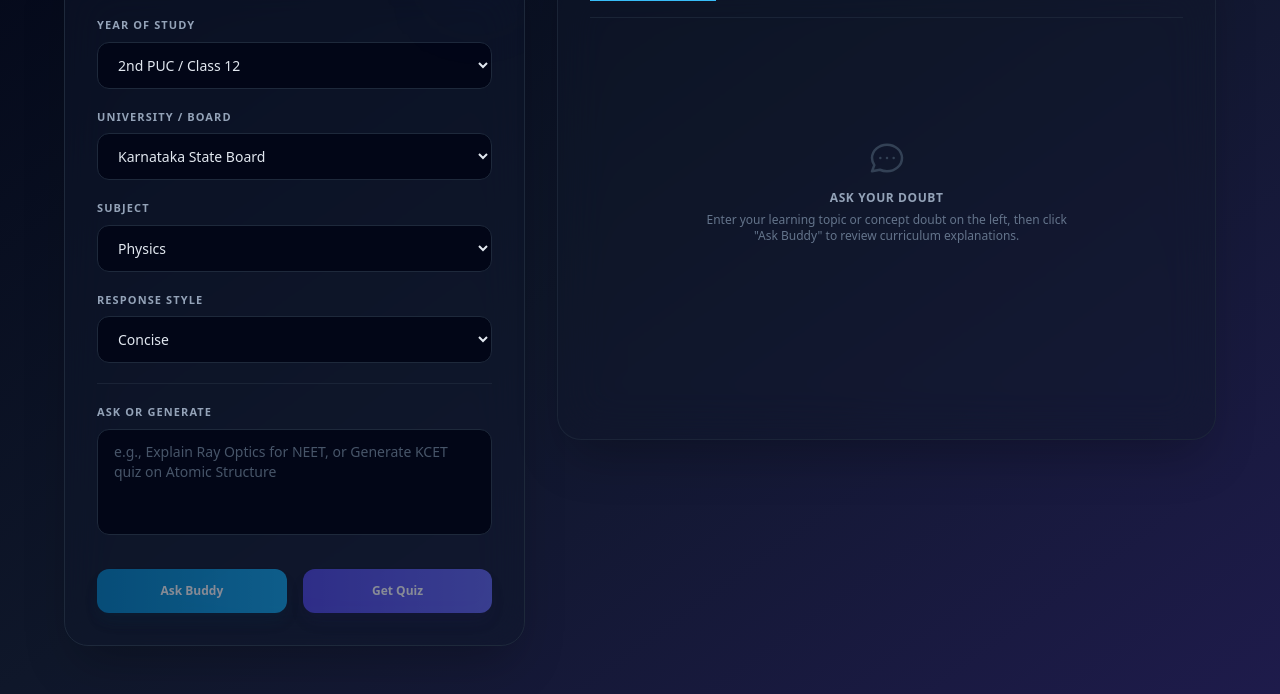
Scenario: StudyMateDashboard Frontend UI Tests › 8. Response panel displays answer
(page scrolled)
Replace the text in the text box with placeholder "e.g.," with "What is covalent bond?": (295, 482) 97,428 -> 492,534
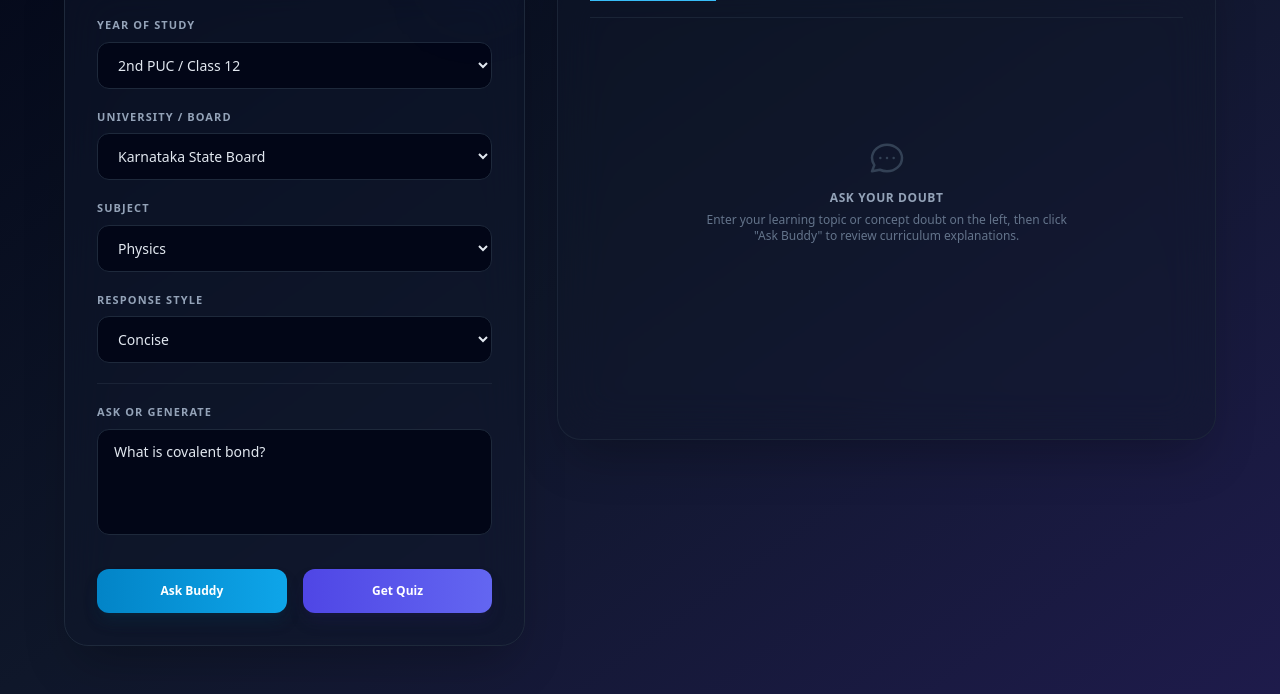
Click the button "Ask Buddy": (192, 590) 97,568 -> 287,612
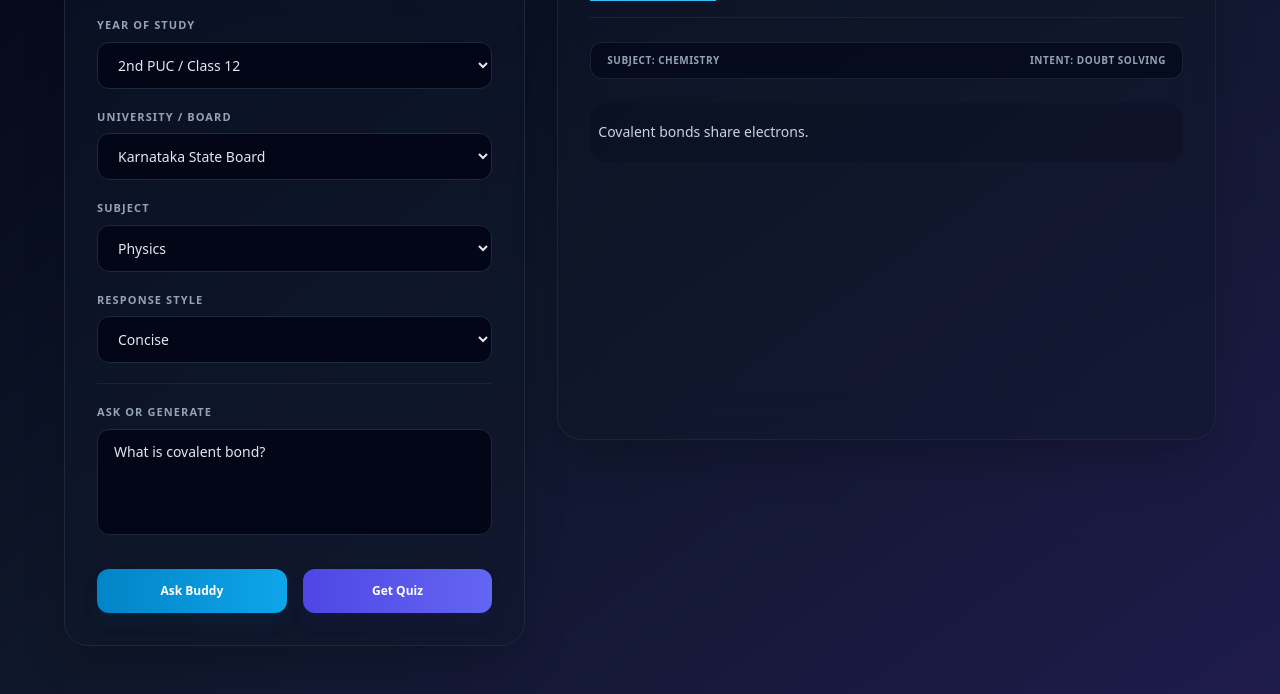
Expected: the text "Covalent bonds share electrons." is shown, 598,122 -> 808,141
